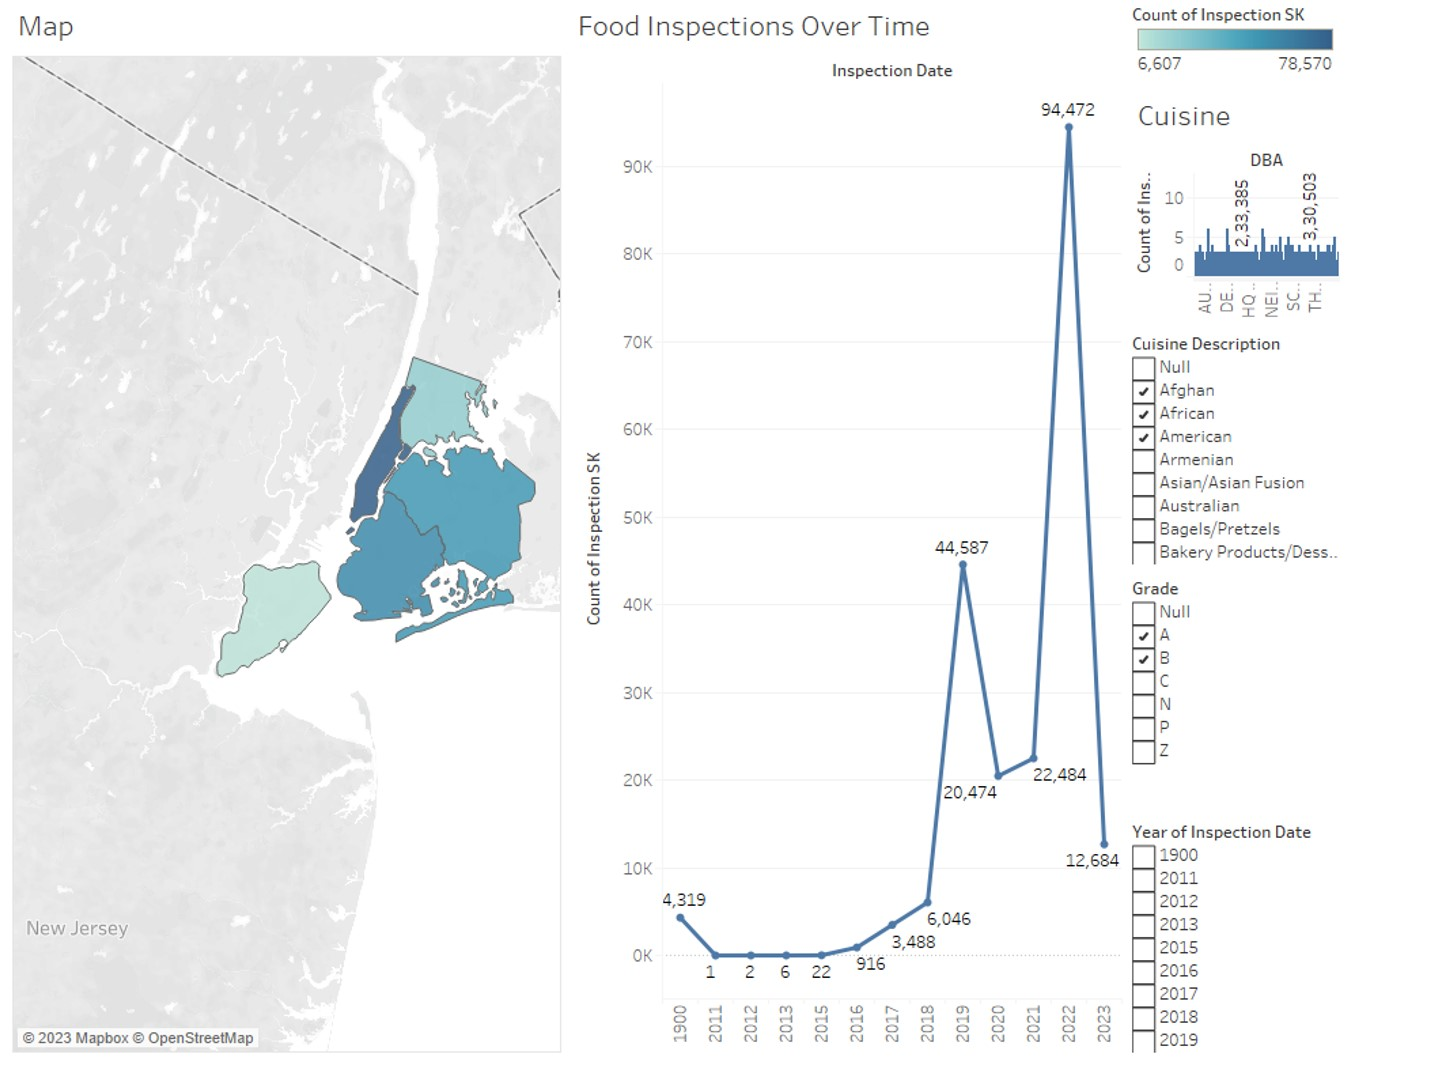

The dashboard page shown, as its layout file describes it:
{"tool":"tableau","page":{"name":"Dashboard","canvas":[1000,800],"ordinal":0},"visuals":[{"type":"worksheet","title":"Map","mark":"Automatic","box":[8,8,412,784]},{"type":"worksheet","title":"Food Inspections Over Time","mark":"Automatic","rows":["InspectionSK","SCORE"],"cols":["Inspection_Date"],"box":[420,8,412,784]},{"type":"legend","title":"Map","param":"[federated.1yhpch61dnafb312zyr5v1t6wxtu].[cnt:InspectionSK:qk]","box":[832,8,160,24]},{"type":"worksheet","title":"Cuisine","mark":"Automatic","rows":["InspectionSK"],"cols":["DBA"],"box":[832,32,160,190]},{"type":"filter","title":"Cuisine","param":"[federated.1yhpch61dnafb312zyr5v1t6wxtu].[none:CUISINE_DESCRIPTION:nk]","box":[832,222,160,190]},{"type":"filter","title":"Cuisine","param":"[federated.1yhpch61dnafb312zyr5v1t6wxtu].[none:GRADE:nk]","box":[832,412,160,190]},{"type":"filter","title":"Cuisine","param":"[federated.1yhpch61dnafb312zyr5v1t6wxtu].[yr:Inspection_Date:ok]","box":[832,602,160,190]}]}

Visuals, with their boxes on the page's 1000x800 design canvas (x1, y1, x2, y2). These are canvas units, not pixel positions in the 1442x1067 screenshot, which may show the page scaled, cropped or inside an application window:
"Map" worksheet: 8/8/420/792
"Food Inspections Over Time" worksheet: 420/8/832/792
"Map" legend: 832/8/992/32
"Cuisine" worksheet: 832/32/992/222
"Cuisine" filter: 832/222/992/412
"Cuisine" filter: 832/412/992/602
"Cuisine" filter: 832/602/992/792
